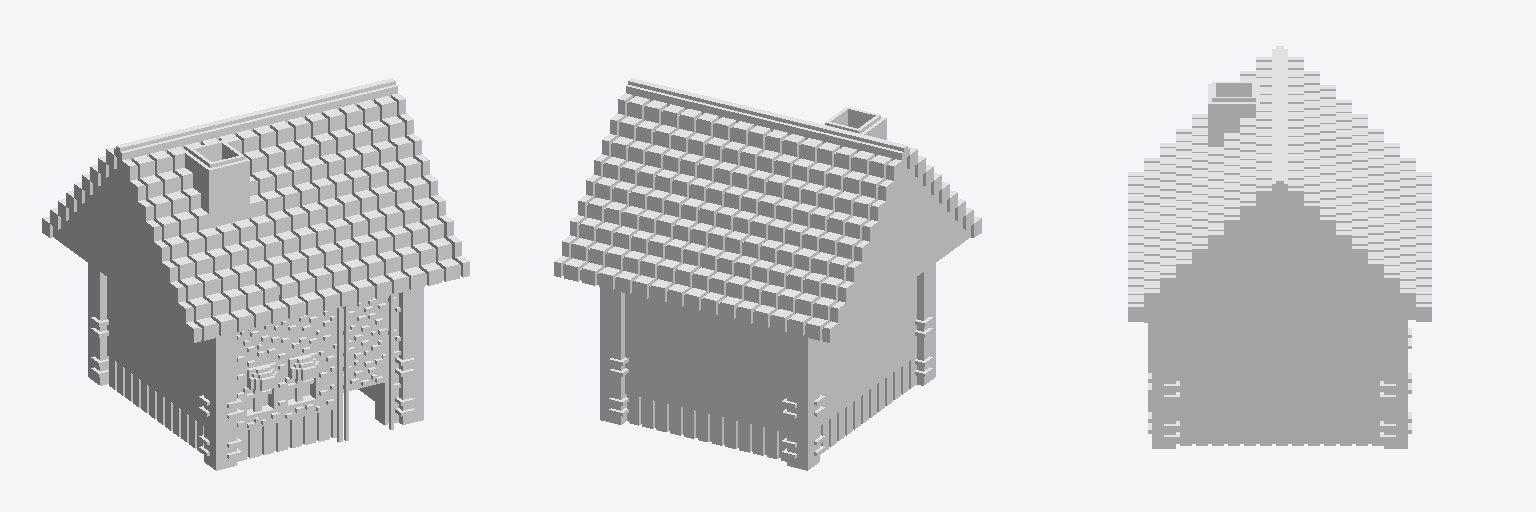
Rendered from StarterHouse.obj.
The picture shows the model from 3 angles: view 1: azimuth 30°, elevation 25°; view 2: azimuth 150°, elevation 25°; view 3: azimuth 270°, elevation 25°; orthographic projection.
Parts seen in each view (by area): view 1: object 1; view 2: object 1; view 3: object 1.
Boxes of the visible parts, <box> form: object 1: <box>42,78,469,470</box>; object 1: <box>554,78,981,470</box>; object 1: <box>1128,46,1431,448</box>.
Bounding box in the file's own units: 16 × 15.8 × 15.2.